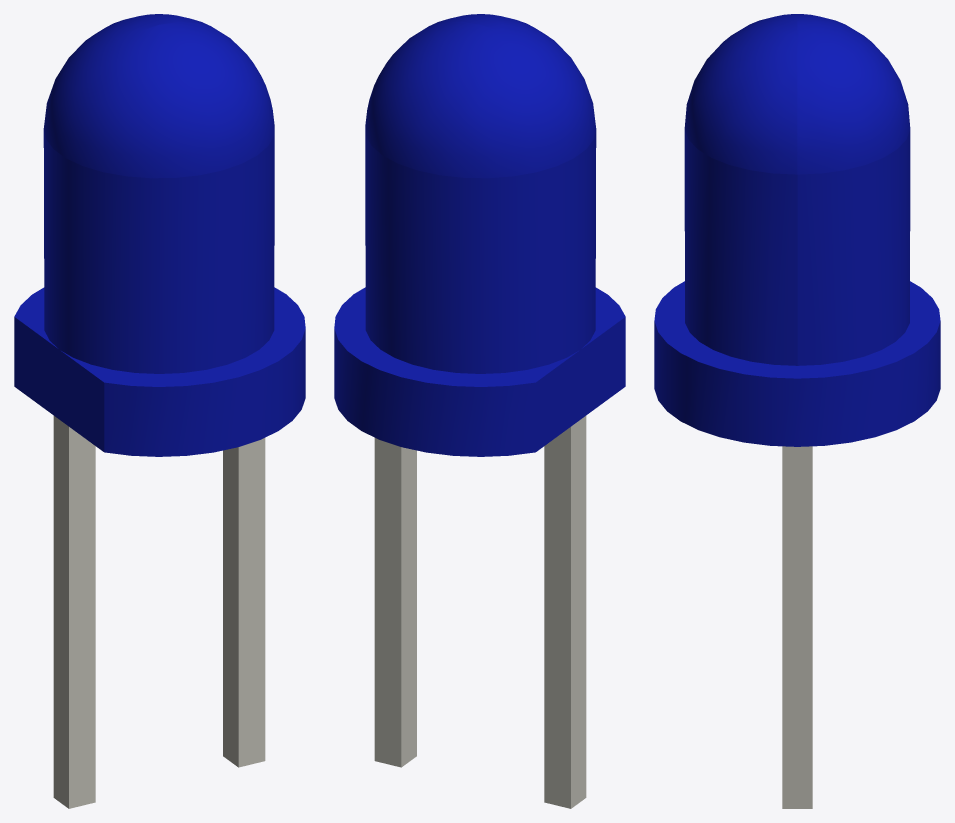
File: kc-led_d3.0mm_blue.glb
The picture shows the model from 3 angles, left to right: view 1: azimuth 30°, elevation 25°; view 2: azimuth 150°, elevation 25°; view 3: azimuth 270°, elevation 25°; orthographic projection. The views are drawn at different scales.
Parts seen in each view (by area): view 1: 0_0_0.4166666666666667_0, 0.6666666666666666_0.6666666666666666_0.5833333333333334_0.8; view 2: 0_0_0.4166666666666667_0, 0.6666666666666666_0.6666666666666666_0.5833333333333334_0.8; view 3: 0_0_0.4166666666666667_0, 0.6666666666666666_0.6666666666666666_0.5833333333333334_0.8.
Part boxes in pixels (x1,y1,x2,y2): 0_0_0.4166666666666667_0: (14,14,305,456); 0.6666666666666666_0.6666666666666666_0.5833333333333334_0.8: (53,416,265,808); 0_0_0.4166666666666667_0: (334,14,625,456); 0.6666666666666666_0.6666666666666666_0.5833333333333334_0.8: (374,416,586,808); 0_0_0.4166666666666667_0: (654,14,940,446); 0.6666666666666666_0.6666666666666666_0.5833333333333334_0.8: (782,446,812,808).
Size of the model in its own units: 0.34 by 1.08 by 0.3796.
